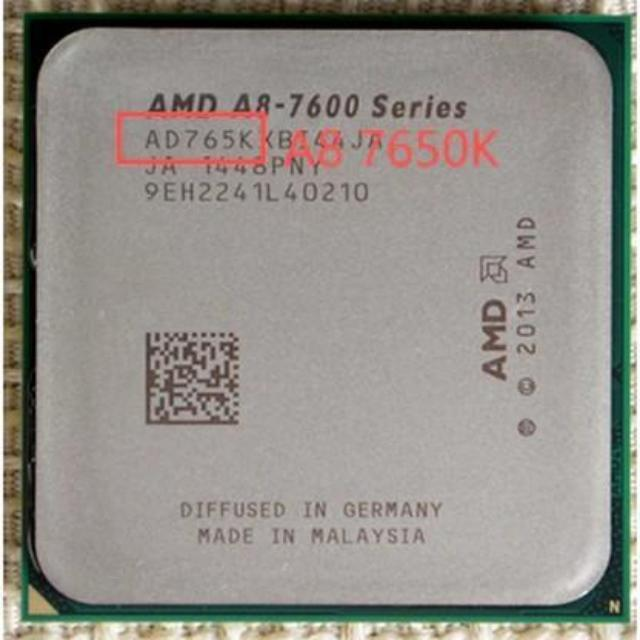CPU: (21, 13, 626, 616)
